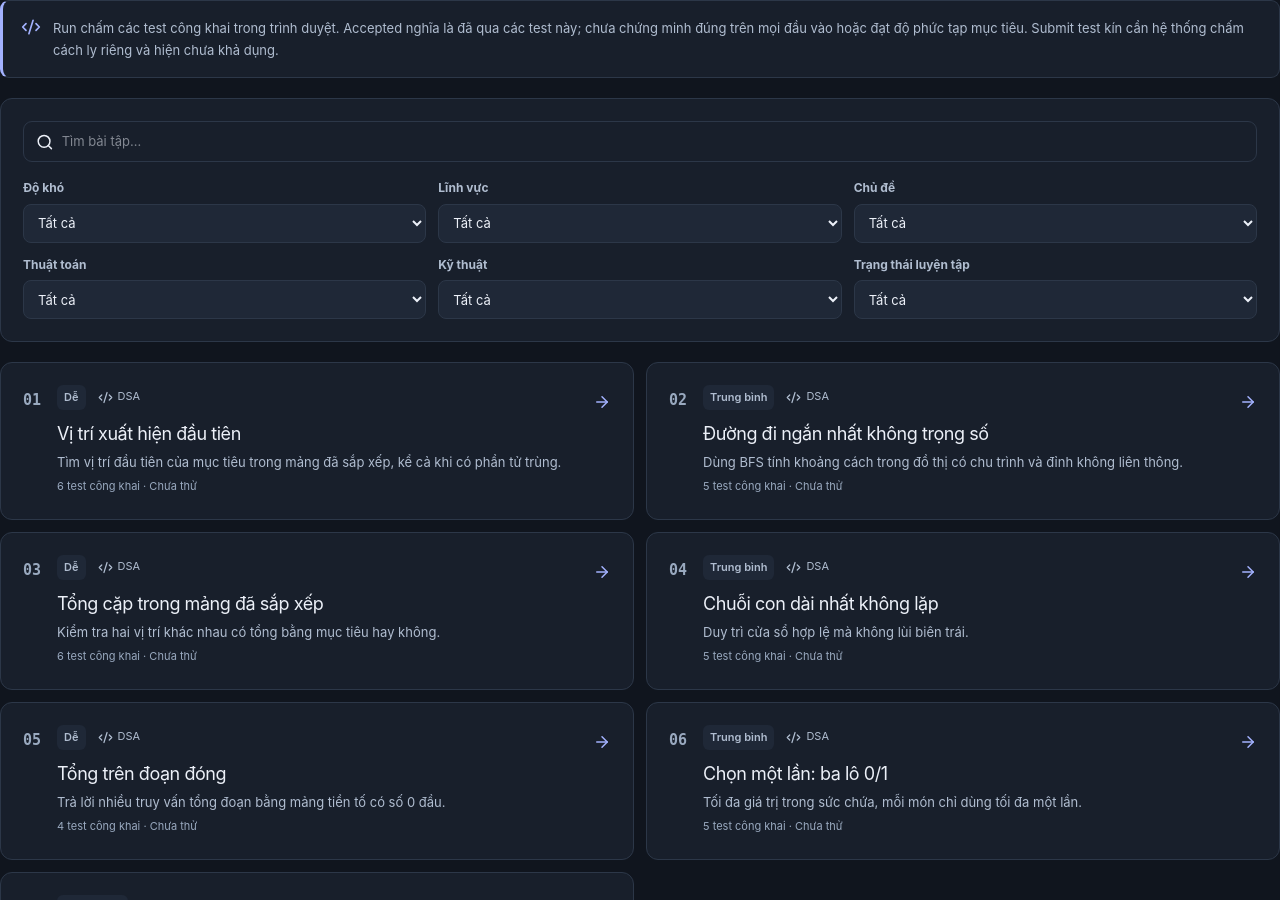
Test case: practice workspace › filters Vietnamese titles without accents and with an algorithm filter
The width and height of the screenshot is (1280, 900).
In the field labelled "Tìm bài tập…": (653, 142) [62,131,1244,152], type "vi tri xuat hien"
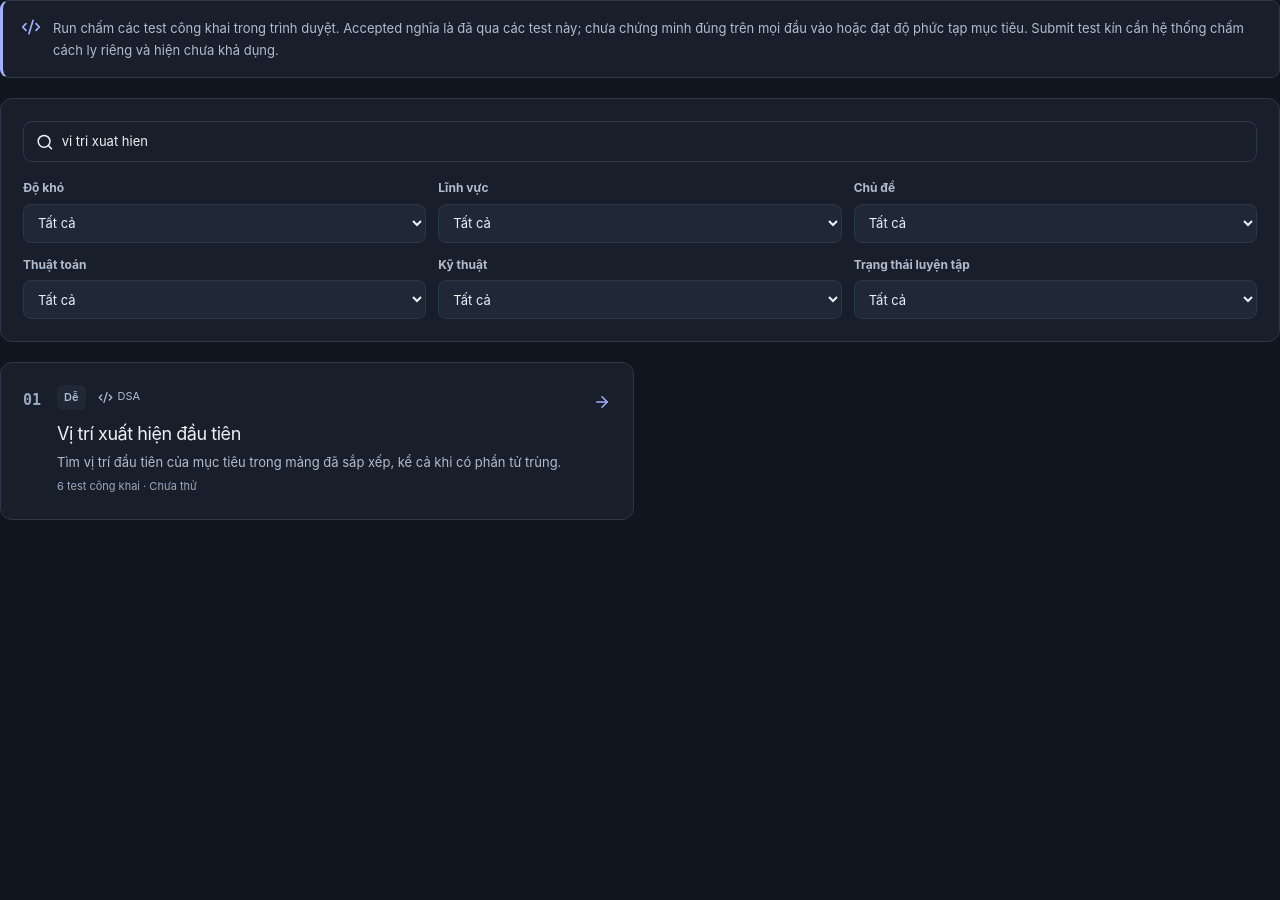
Check: the number of links is 1, box [0,362,634,520]
Select "Breadth-First Search" in the dropdown labelled "Thuật toán": (225, 300) [23,280,426,319]
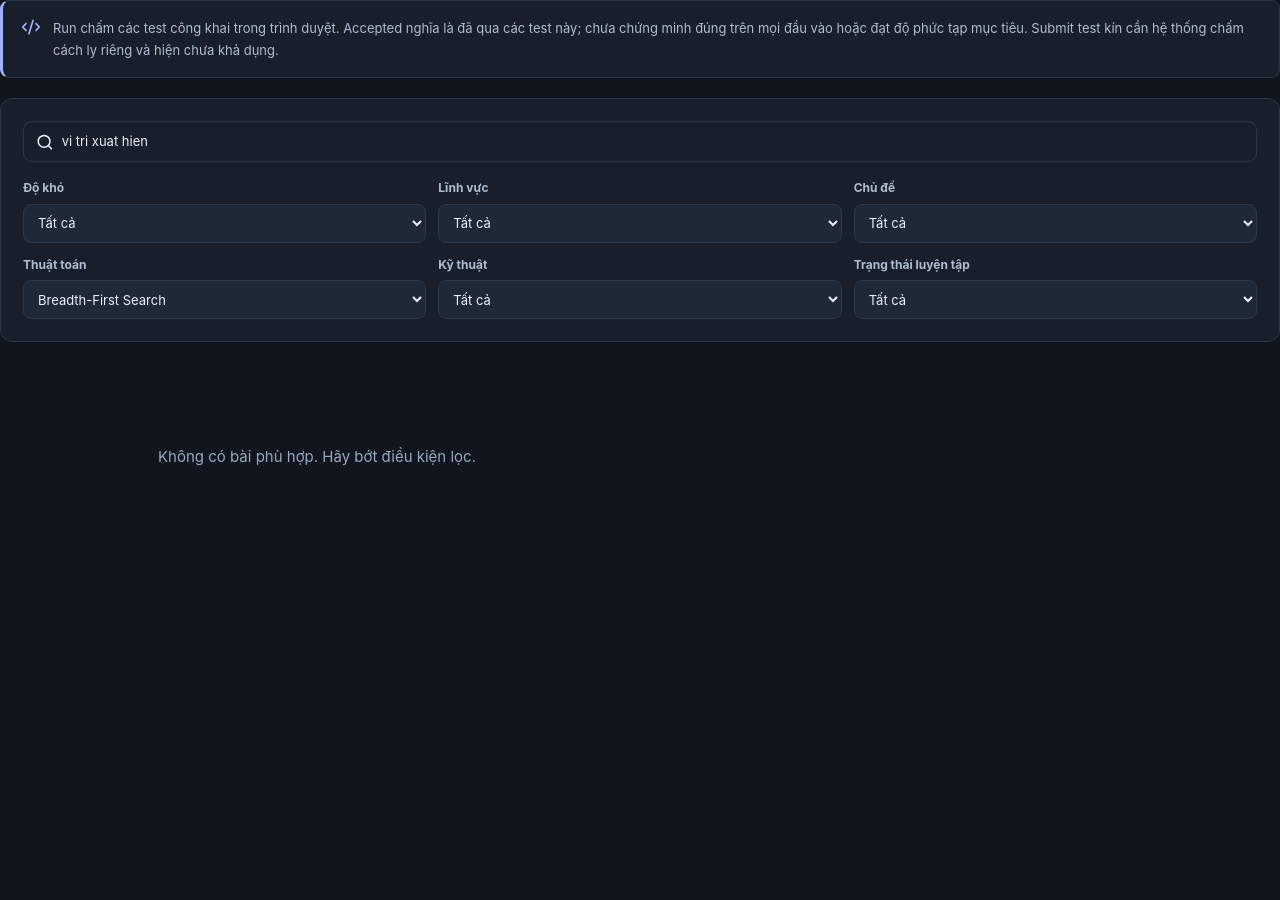
Check: no links are shown
Clear the field named "Tìm bài tập…": (653, 142) [62,131,1244,152]
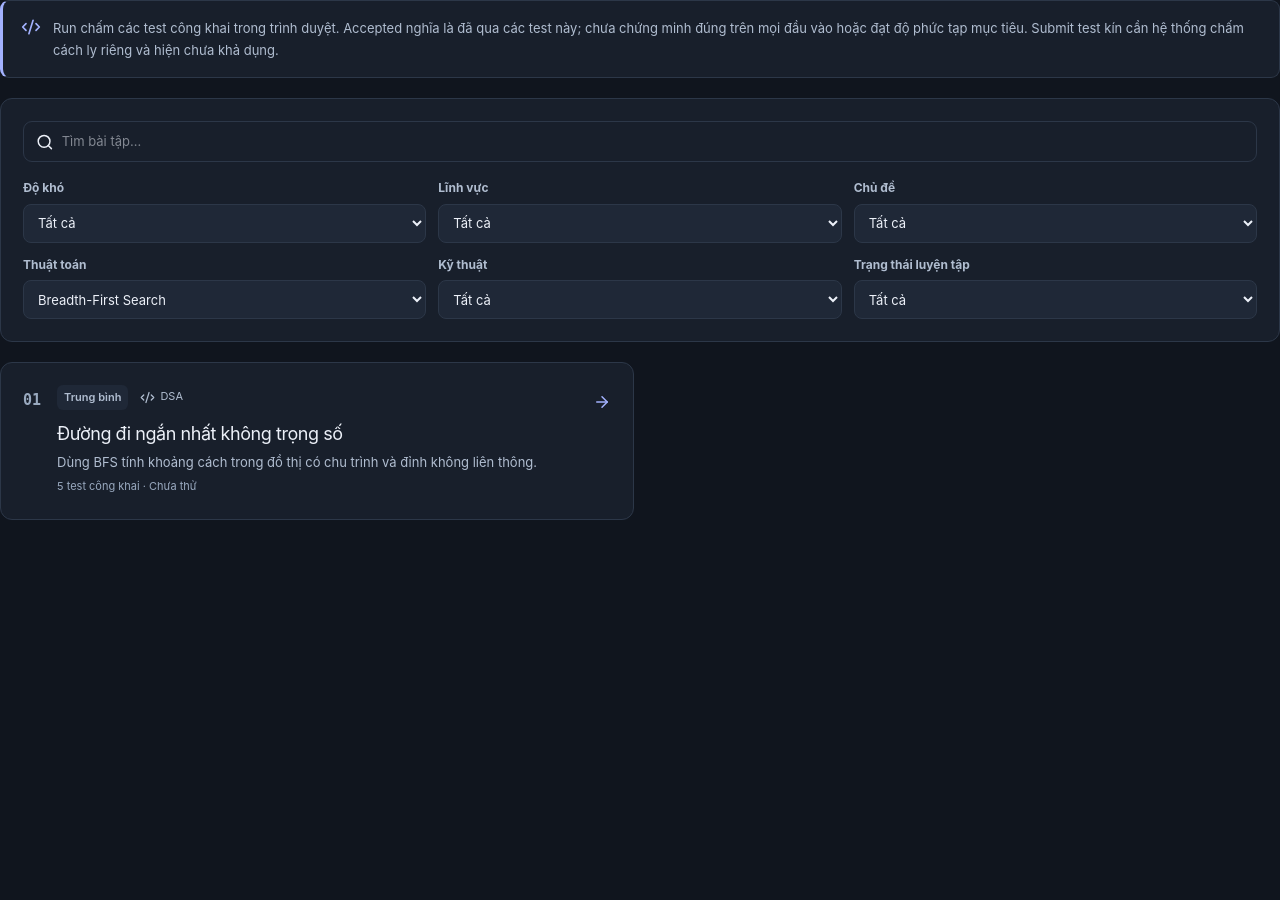
Check: the number of links is 1, box [0,362,634,520]
